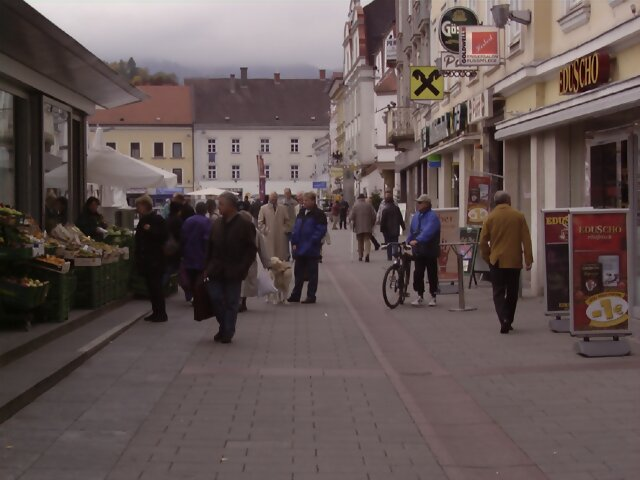person: (198, 188, 261, 347), (478, 190, 541, 343), (410, 191, 448, 314)
